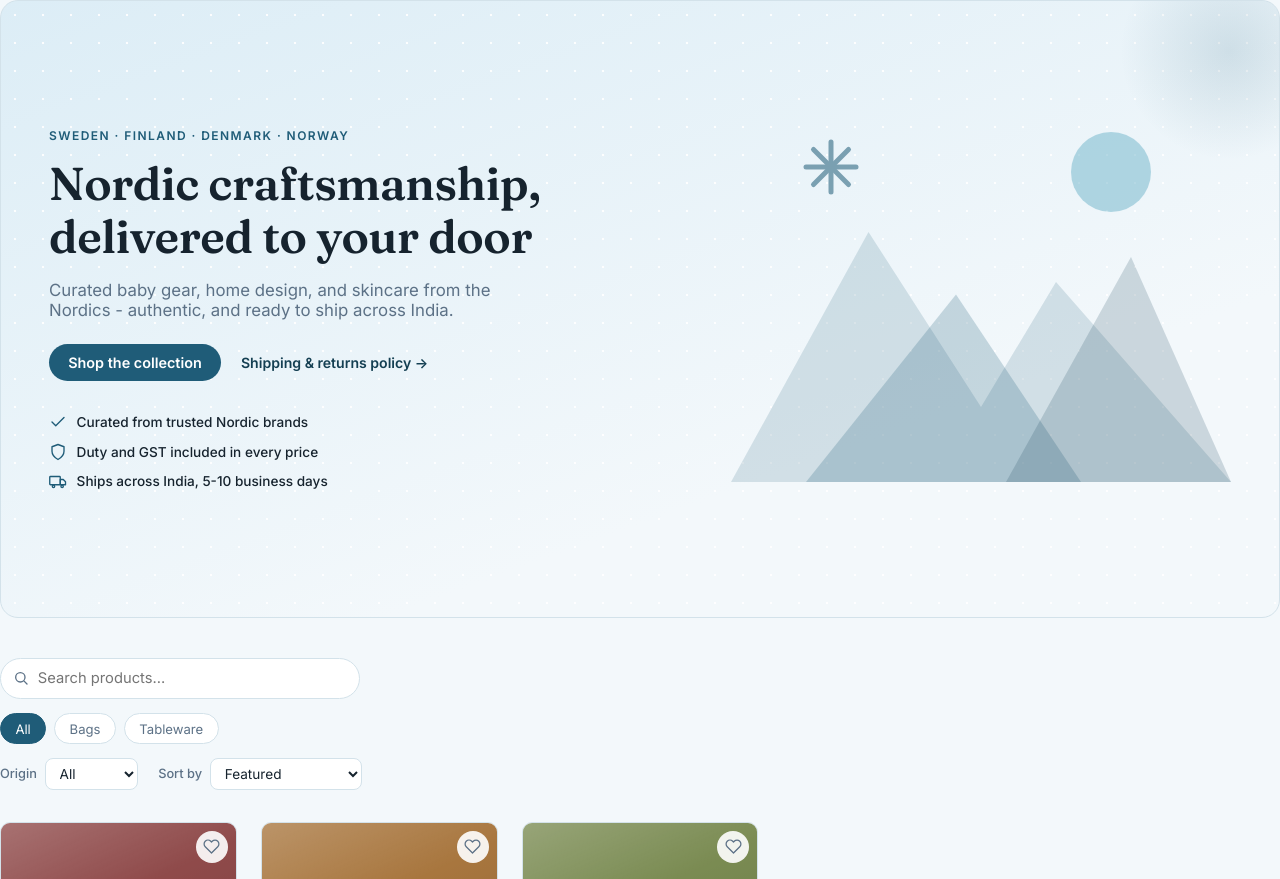
Scenario: Home › shows a no-results message when search matches nothing
The width and height of the screenshot is (1280, 879).
Type "nonexistent item xyz" into the search field with placeholder "Search products...". click: (180,678)
box: left=0, top=658, right=360, bottom=699
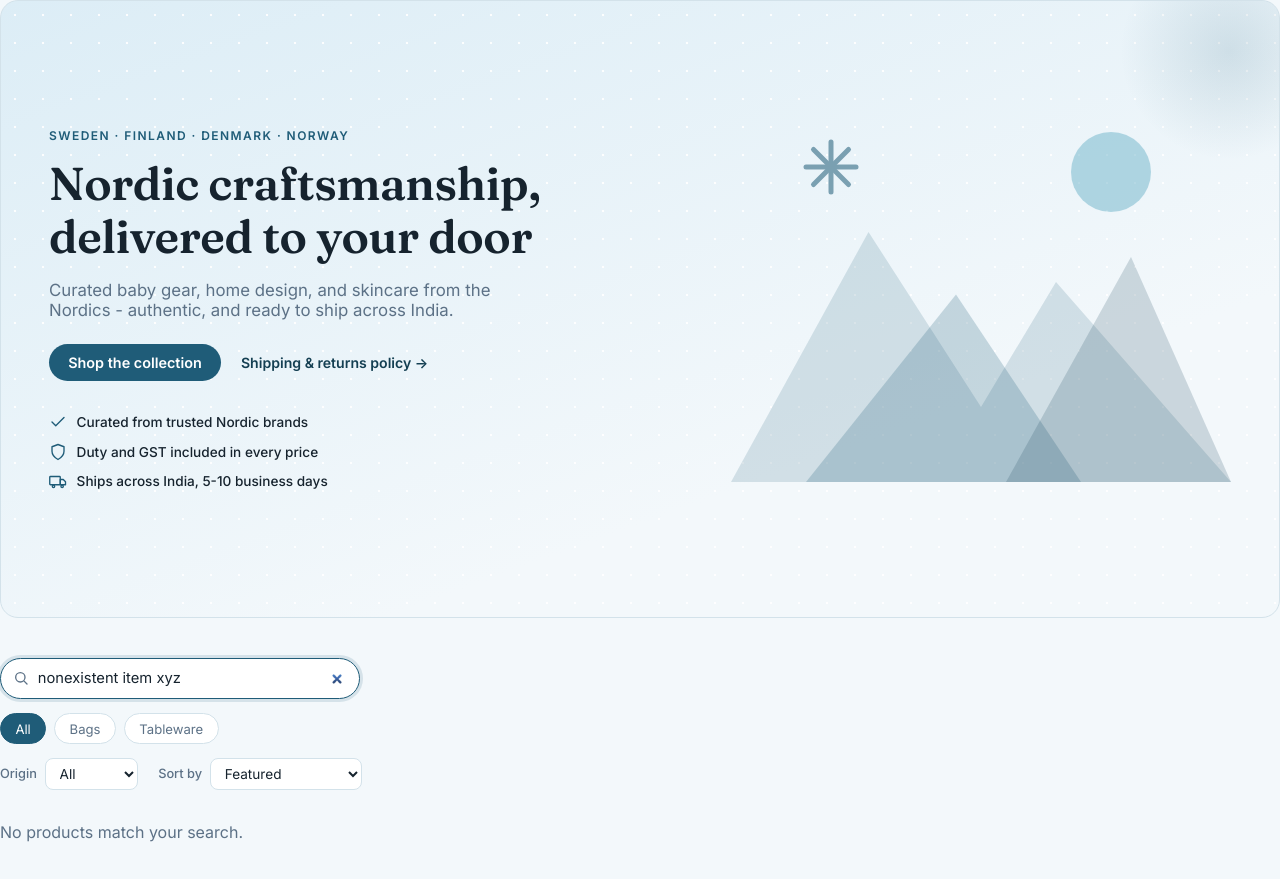
Check: the text "No products match your search." is shown, box left=0, top=822, right=243, bottom=842
